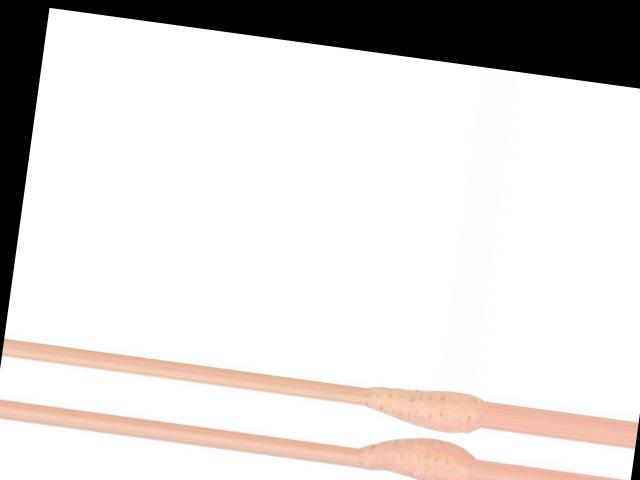sweet_potato: (365, 381, 485, 437)
